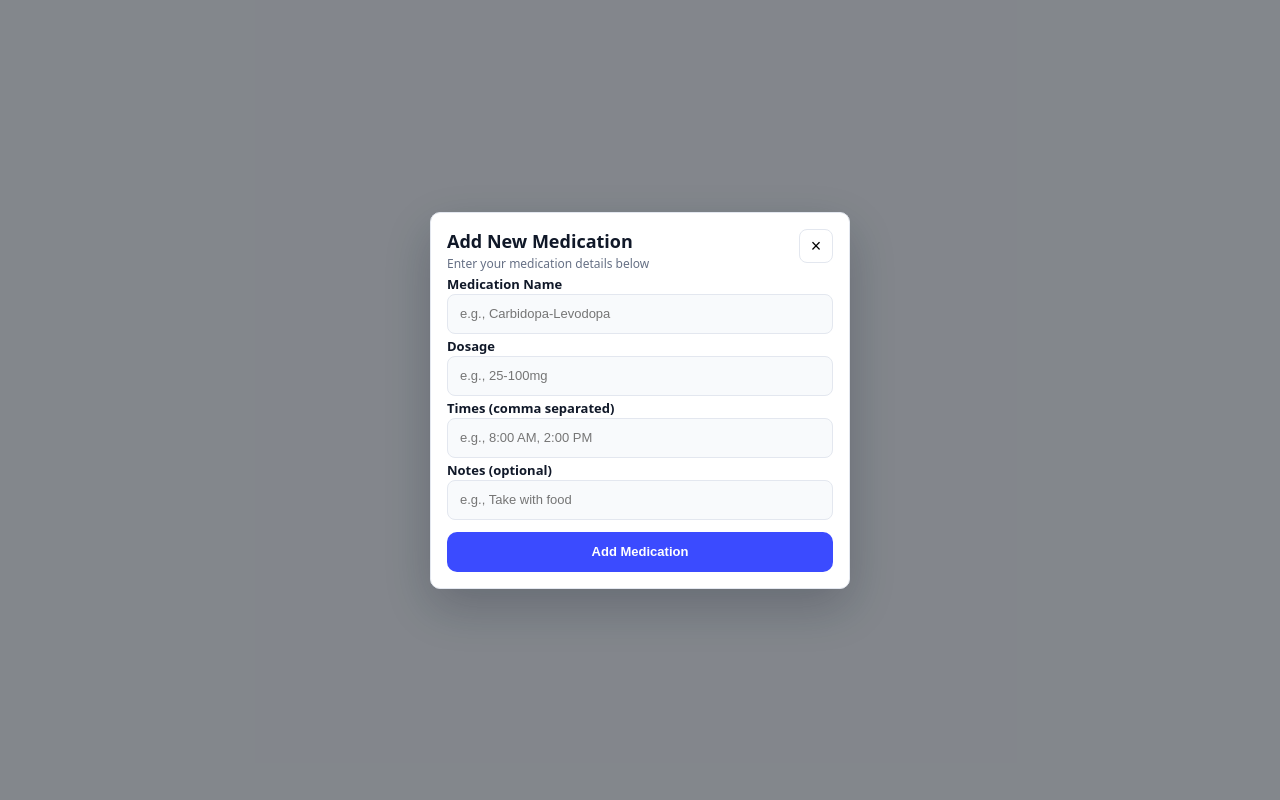
Scenario: AddMedicationModal interactive test › shows validation error when dosage is missing
Type "Carbidopa-Levodopa" into the field with placeholder "e.g., Carbidopa-Levodopa". click: (640, 314)
box: left=447, top=294, right=833, bottom=334
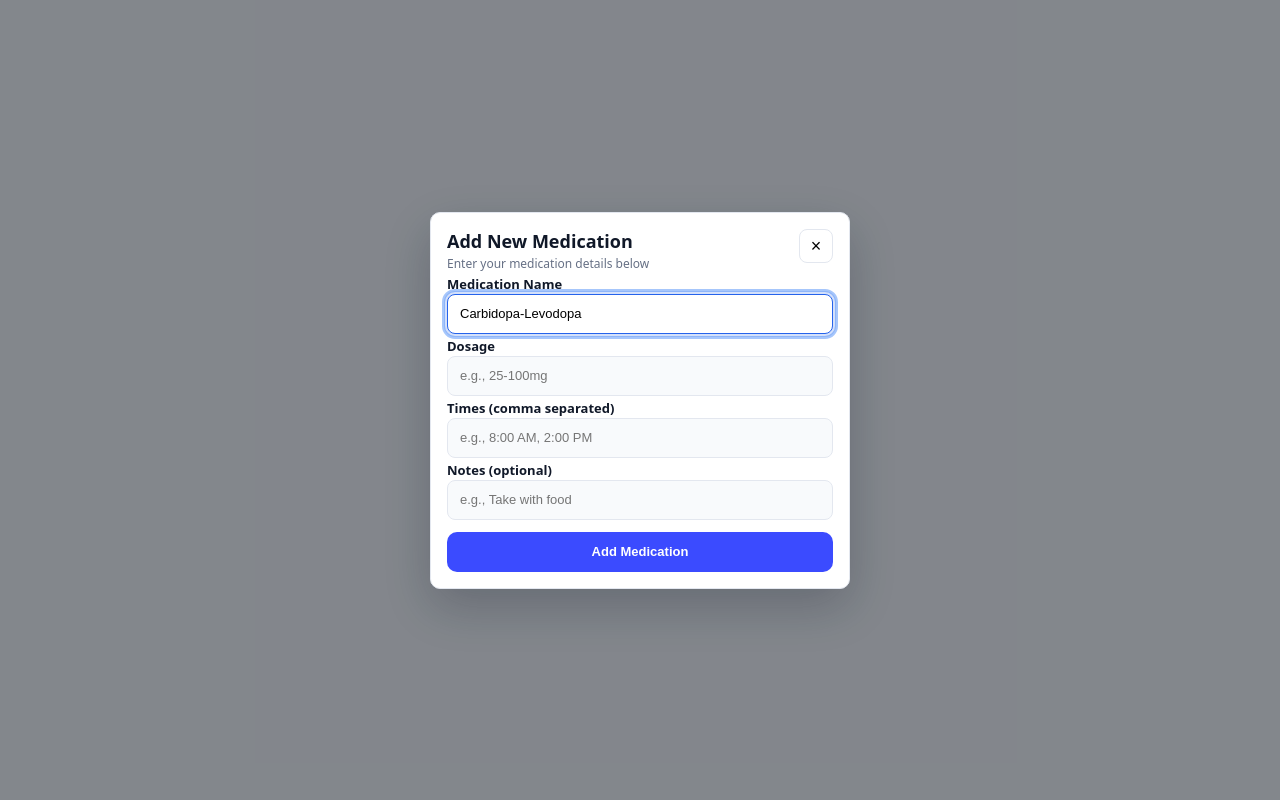
Click the button "Add Medication". click: (640, 552)
box: left=447, top=532, right=833, bottom=572
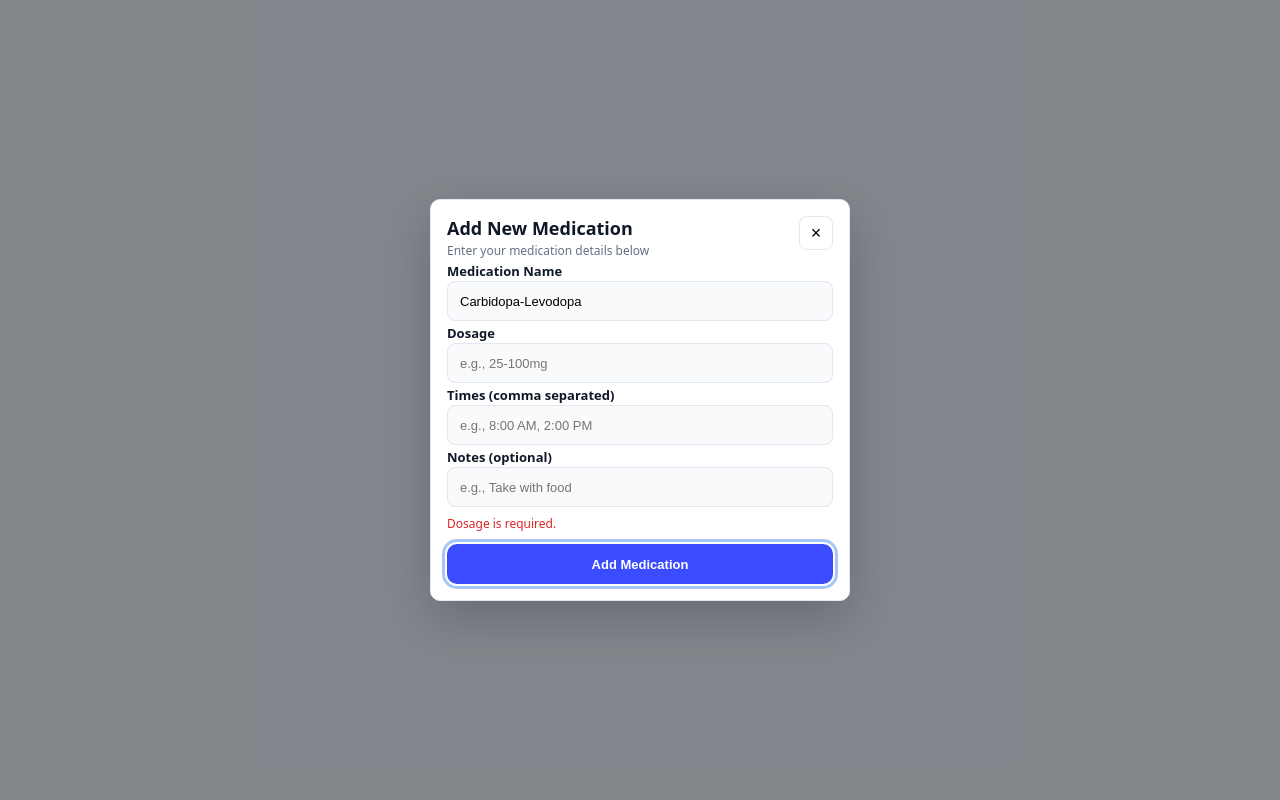
Expected: the text "Dosage is required." is shown, left=447, top=515, right=556, bottom=532
